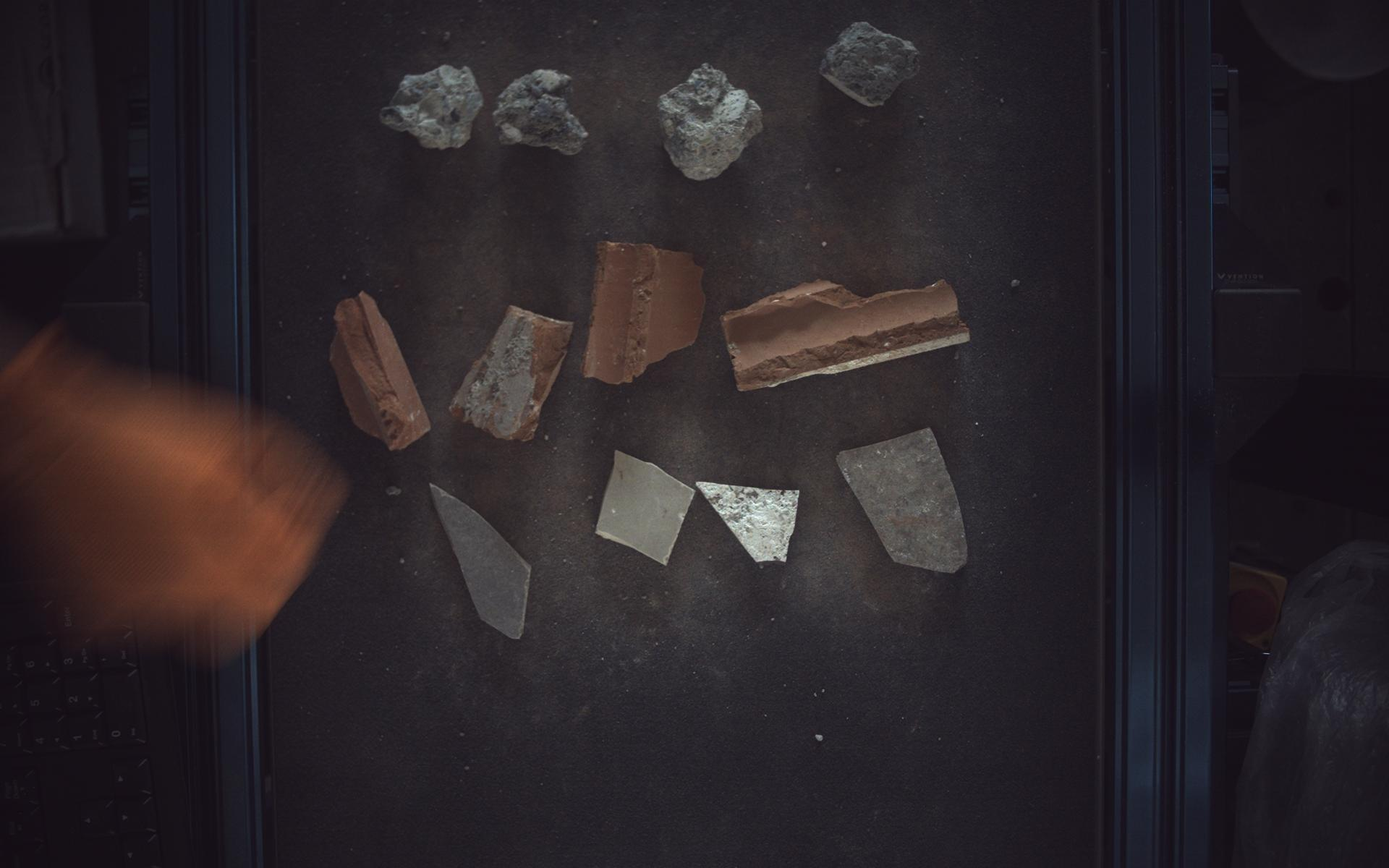brick: (723, 279, 972, 391), (583, 241, 706, 384), (450, 305, 574, 441), (330, 292, 430, 451)
concrete: (659, 62, 764, 179), (380, 64, 483, 148), (822, 20, 920, 106), (493, 68, 588, 154)
tile: (838, 428, 969, 574), (430, 484, 530, 640), (597, 451, 696, 566), (697, 482, 801, 563)
